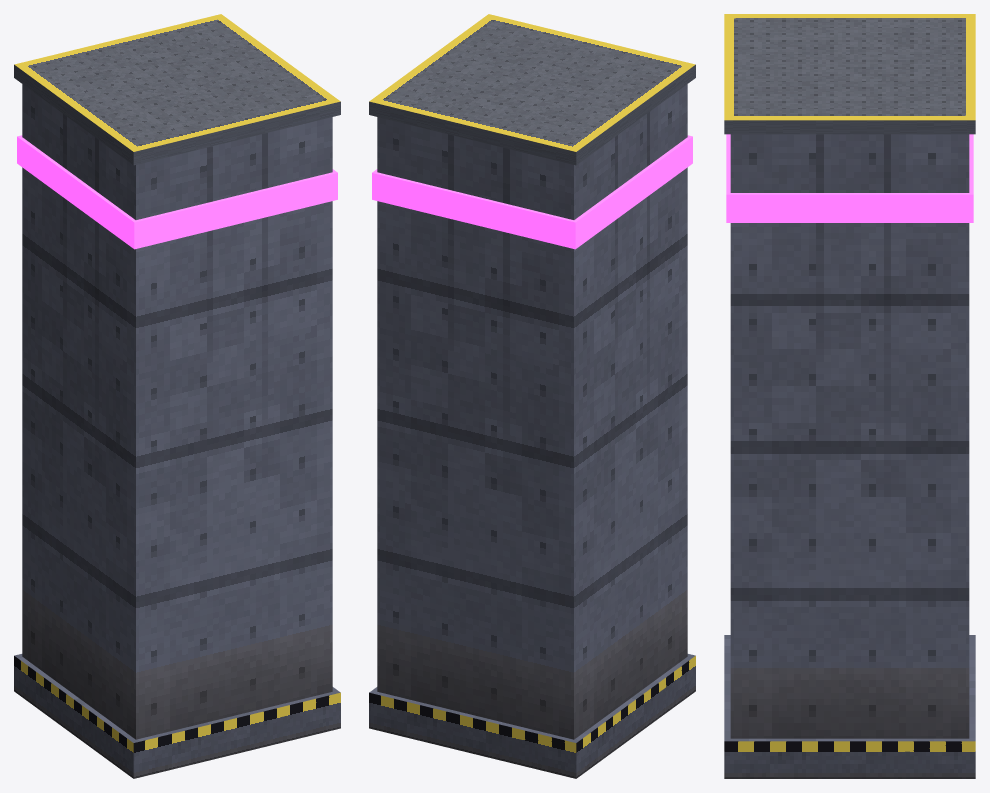
Rendered from p_jb_chamfer.glb.
3 views of the same model, side by side, from view 1: azimuth 30°, elevation 25°; view 2: azimuth 150°, elevation 25°; view 3: azimuth 270°, elevation 25° (orthographic). The views are drawn at different scales.
Parts seen in each view (by area): view 1: p_jb_chamfer_lod0; view 2: p_jb_chamfer_lod0; view 3: p_jb_chamfer_lod0.
Part boxes in pixels (x1=…): p_jb_chamfer_lod0: x1=14, y1=14, x2=340, y2=778; p_jb_chamfer_lod0: x1=369, y1=14, x2=695, y2=778; p_jb_chamfer_lod0: x1=724, y1=14, x2=975, y2=778.
Size of what is drawn, in the model's own units: 4.84 by 14 by 4.84.
Materials: 2 (1 with a texture image).
